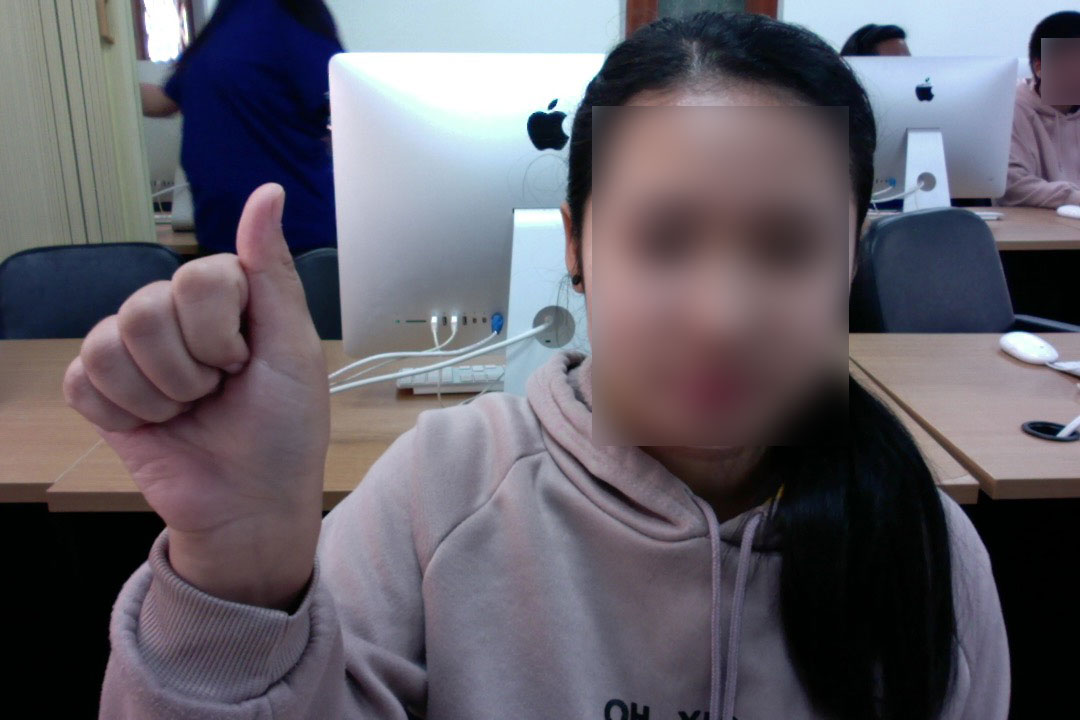or: (54, 172, 343, 572)
